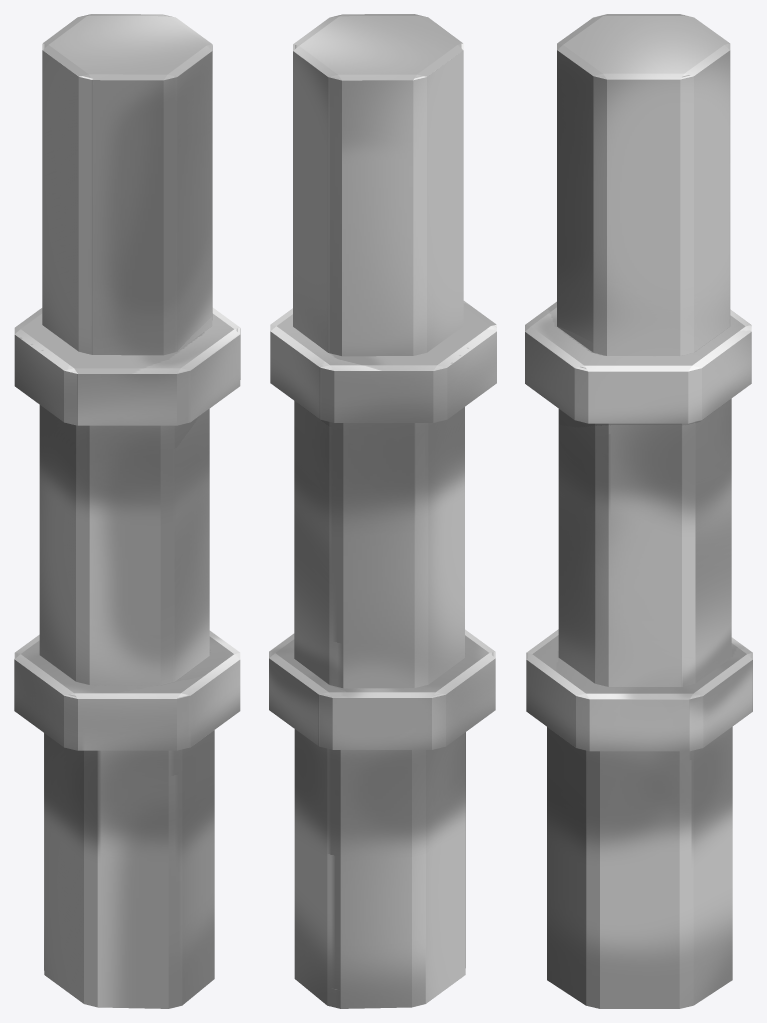
The model's file is canotextura.fbx.
The picture shows the model from 3 angles, left to right: view 1: azimuth 30°, elevation 25°; view 2: azimuth 150°, elevation 25°; view 3: azimuth 270°, elevation 25°; orthographic projection.
Visible parts, largest first — view 1: Cilindro.004; view 2: Cilindro.004; view 3: Cilindro.004.
Part boxes in pixels (x1,y1,x2,y2): Cilindro.004: (14, 14, 240, 1008); Cilindro.004: (269, 14, 496, 1008); Cilindro.004: (525, 14, 752, 1008).
Bounding box in the file's own units: 73.51 × 369 × 81.51.
